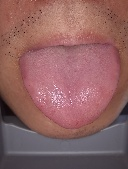tongue: (18, 49, 122, 130)
